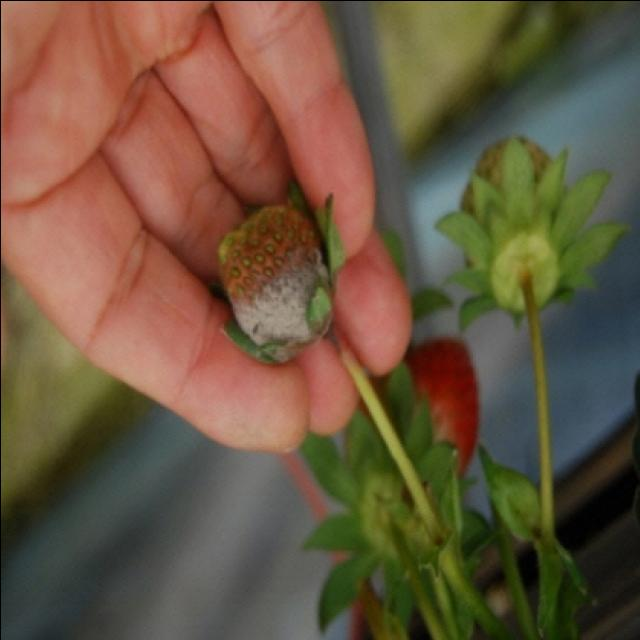Gray Mold: (215, 180, 344, 367)
